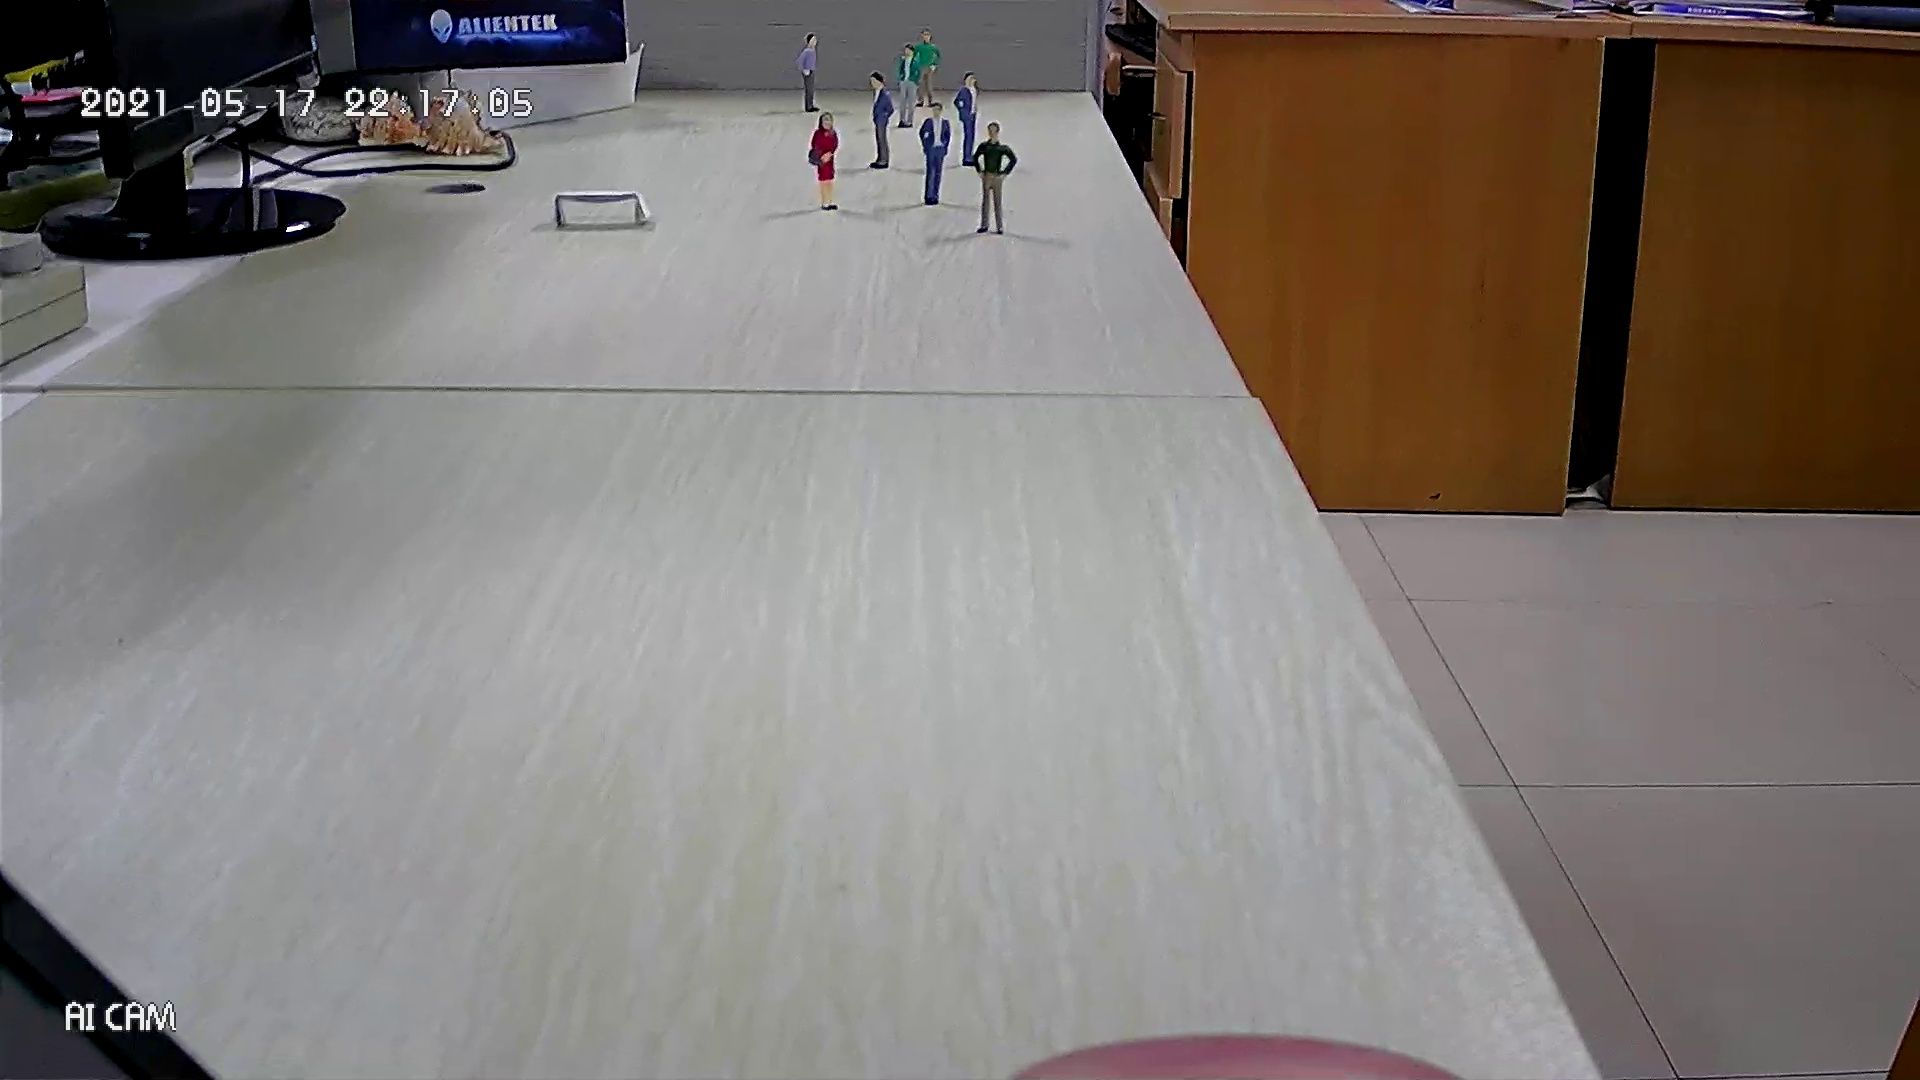person: (973, 122, 1018, 236), (807, 111, 842, 212), (918, 101, 951, 206), (866, 69, 895, 170), (953, 70, 982, 167), (794, 31, 821, 114), (896, 43, 922, 129), (916, 27, 941, 109)
